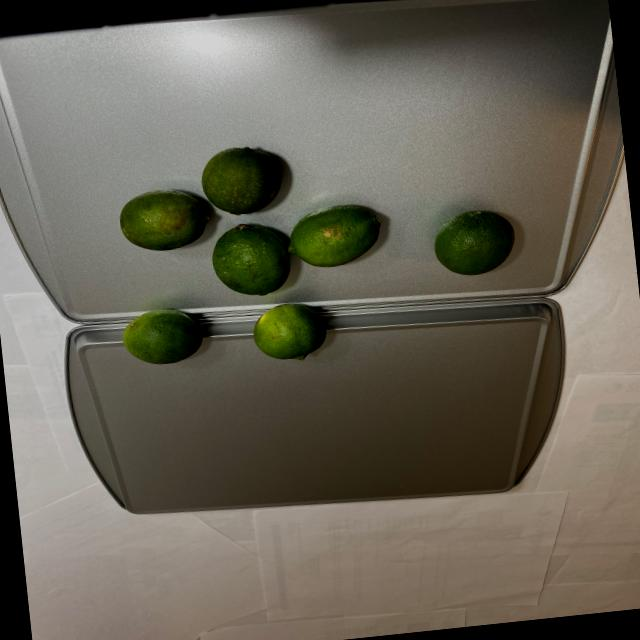lemon: (100, 114, 524, 377)
